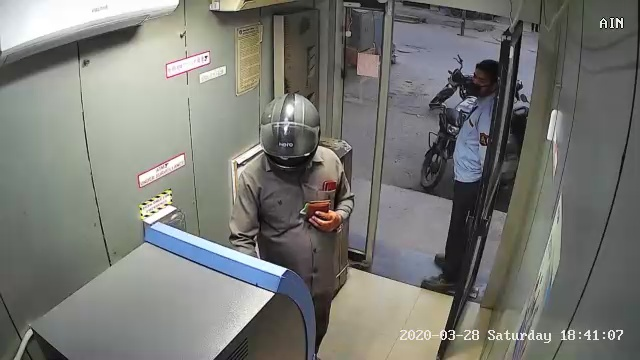helmet: (244, 88, 336, 179)
